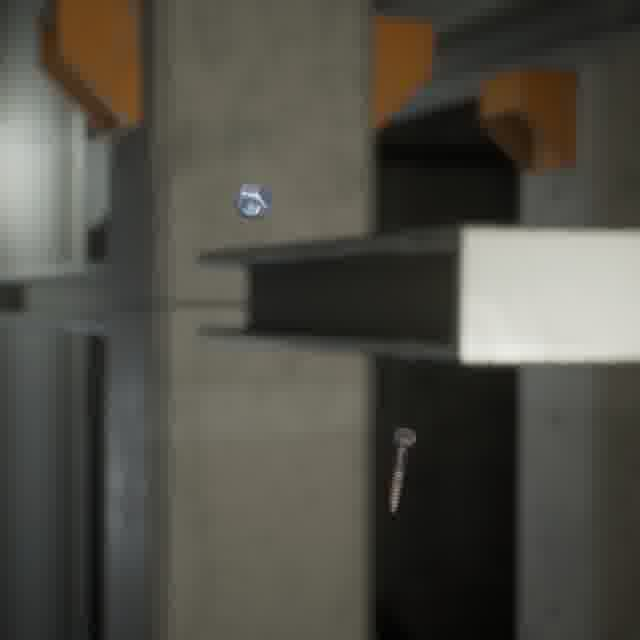bolt: (384, 423, 420, 517)
nut: (229, 179, 276, 223)
